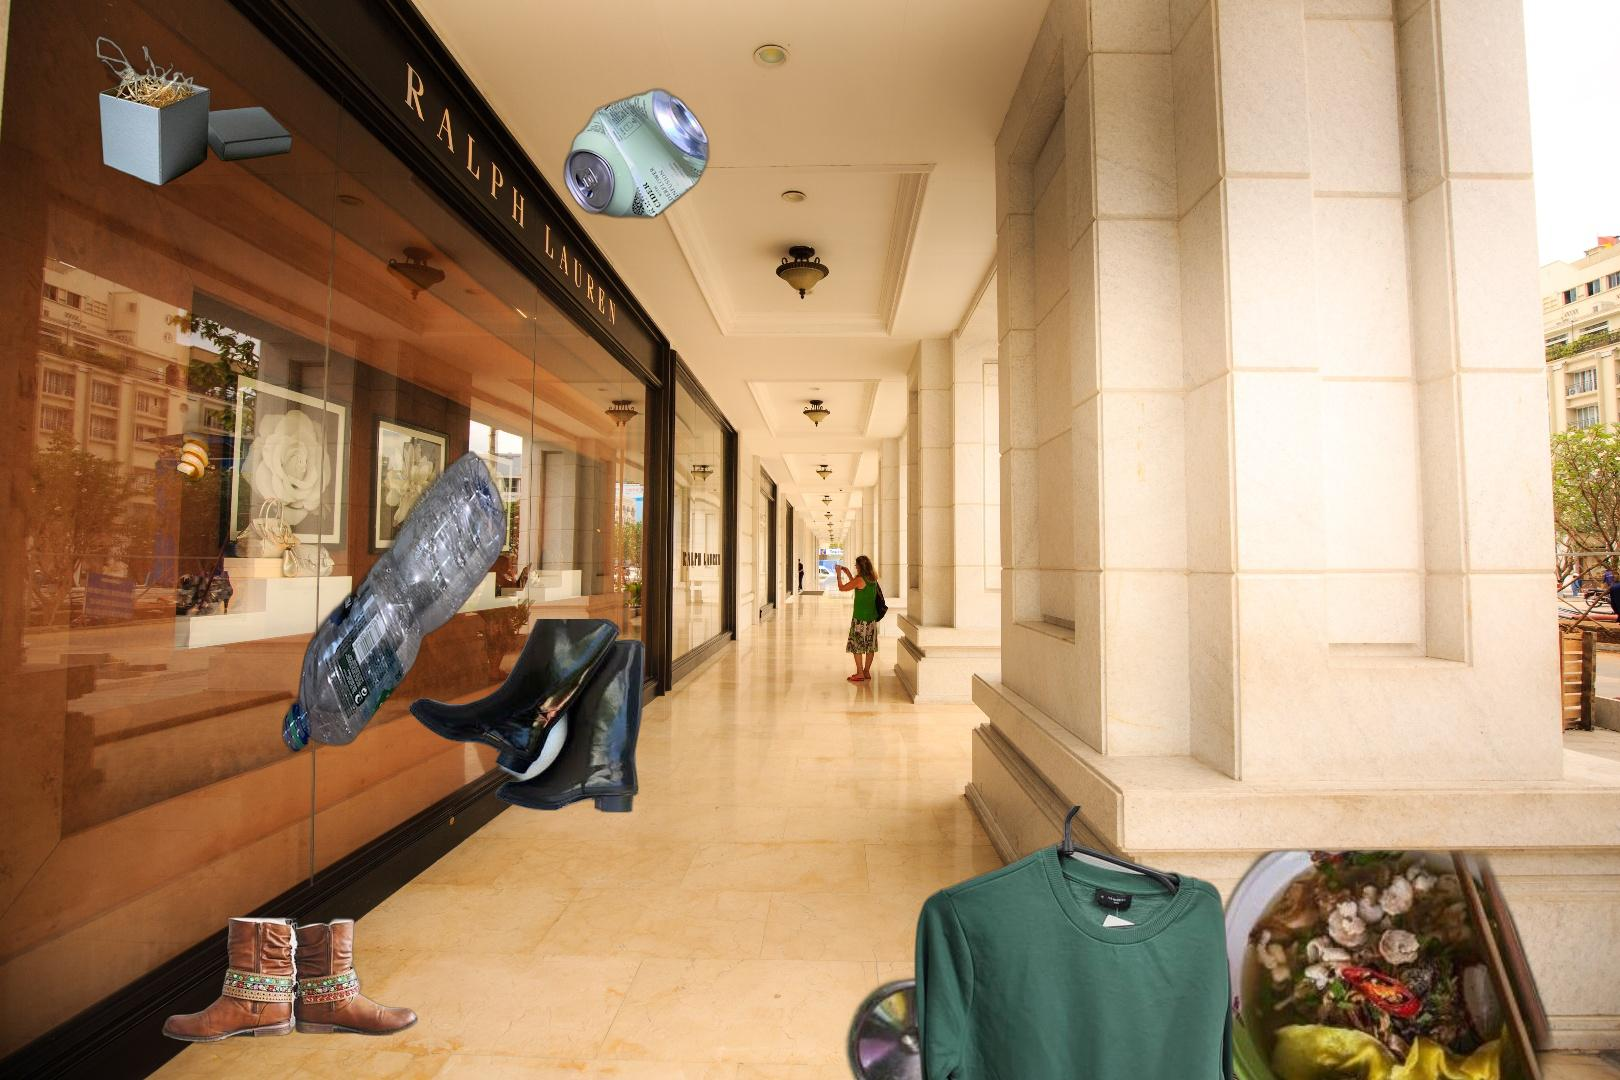biological: (723, 840, 1620, 1080), (88, 407, 351, 595)
clothes: (912, 806, 1245, 1080)
metal-cans: (560, 84, 714, 223)
plastic-bottles: (278, 447, 510, 756)
shoes: (406, 620, 648, 815), (159, 914, 419, 1045)
trashbox-cardboard: (93, 34, 295, 189)
